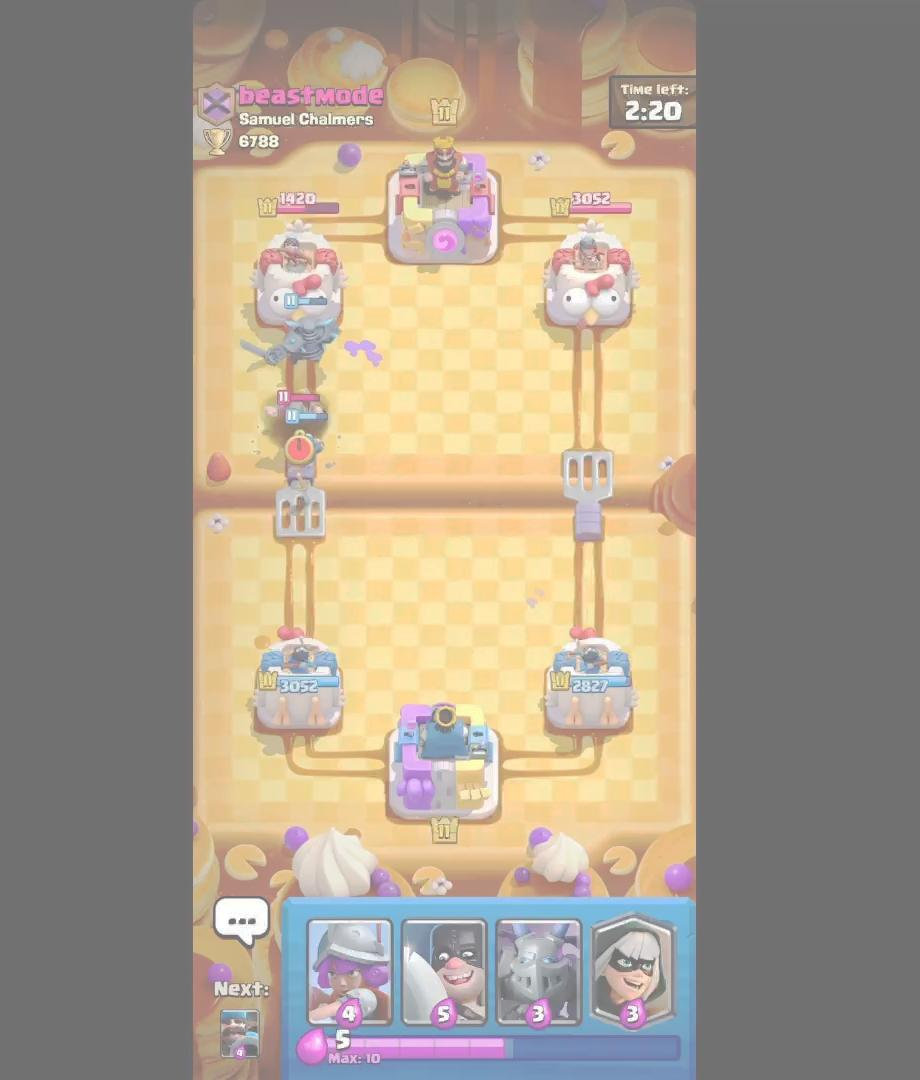Knight: (264, 387, 333, 438)
